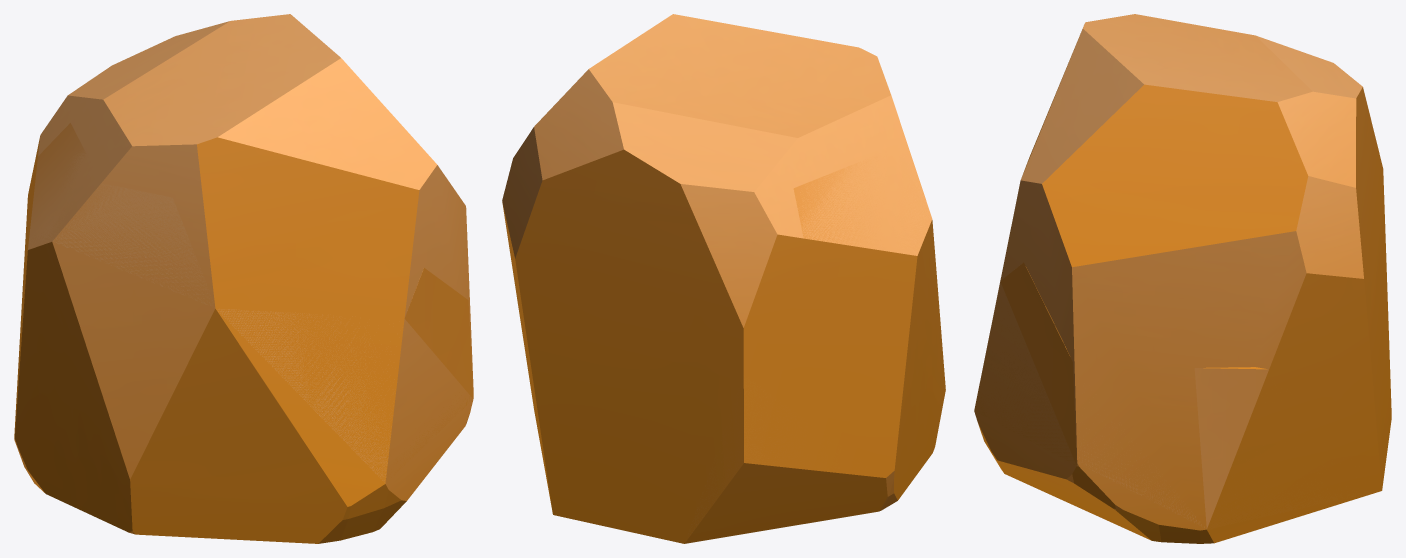
The model's file is Ore_Basic_02.fbx.
3 views of the same model, side by side, from view 1: azimuth 30°, elevation 25°; view 2: azimuth 150°, elevation 25°; view 3: azimuth 270°, elevation 25° (orthographic).
Parts seen in each view (by area): view 1: rockB_base, rockB_break1; view 2: rockB_base, rockB_break1; view 3: rockB_base, rockB_break1.
Part boxes in pixels (x1,y1,x2,y2): rockB_base: (14,14,473,543); rockB_break1: (28,123,473,483); rockB_base: (502,14,945,543); rockB_break1: (686,146,931,540); rockB_base: (974,14,1391,543); rockB_break1: (975,262,1378,529).
Bounding box in the file's own units: 1.66 × 1.72 × 1.58.
